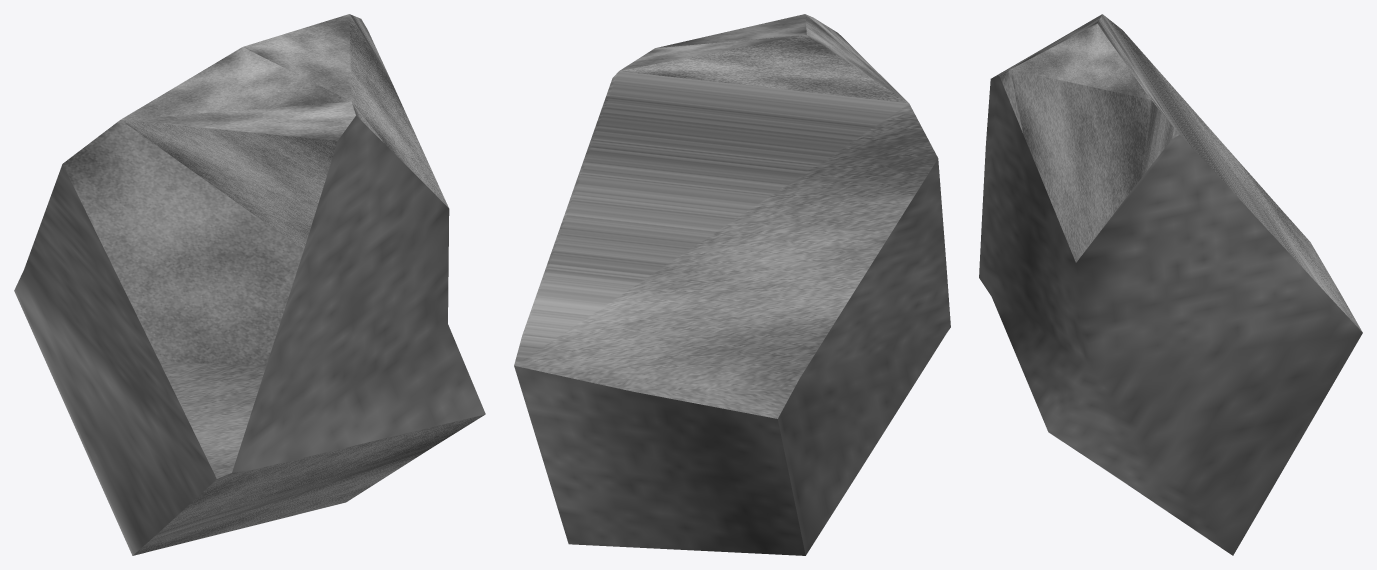
Rendered from leg_4_cell_013.fbx.
3 views of the same model, side by side, from view 1: azimuth 30°, elevation 25°; view 2: azimuth 150°, elevation 25°; view 3: azimuth 270°, elevation 25° (orthographic). The views are drawn at different scales.
Visible parts, largest first — view 1: leg_4_cell.013; view 2: leg_4_cell.013; view 3: leg_4_cell.013.
Boxes of the visible parts, <box> form: leg_4_cell.013: <box>14,14,485,555</box>; leg_4_cell.013: <box>514,14,950,555</box>; leg_4_cell.013: <box>979,14,1362,555</box>.
Size of the model in its own units: 25.93 by 36.87 by 28.02.
